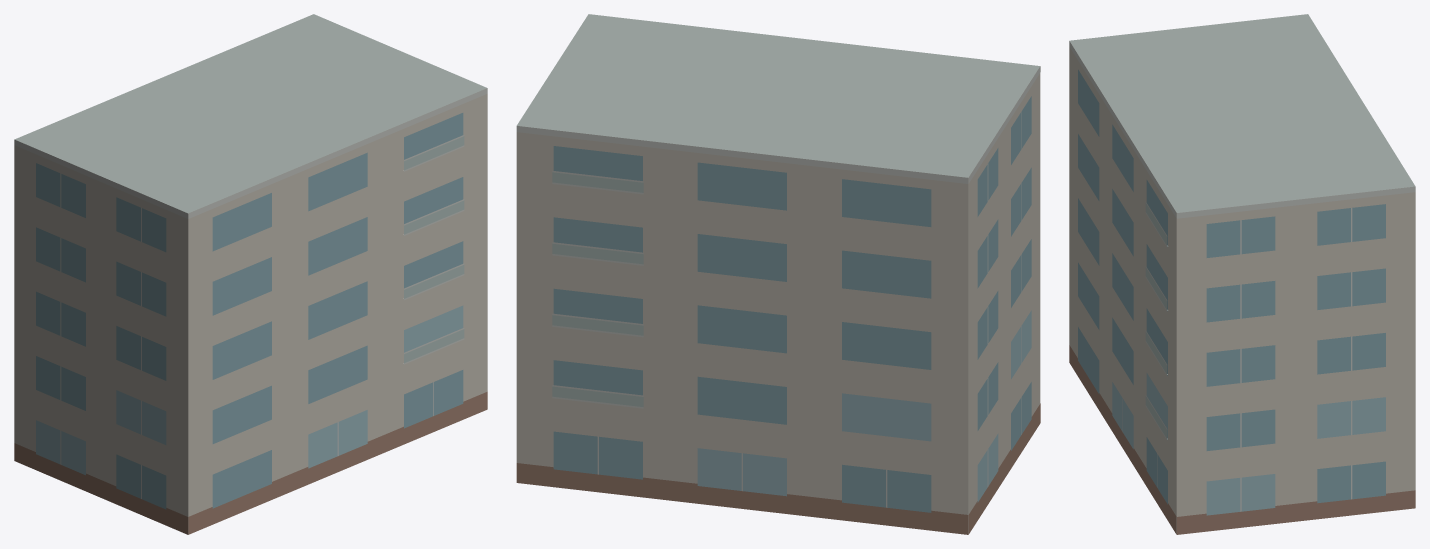
File: survey-upis-32720231.glb
The picture shows the model from 3 angles, left to right: view 1: azimuth 30°, elevation 25°; view 2: azimuth 150°, elevation 25°; view 3: azimuth 270°, elevation 25°; orthographic projection. The views are drawn at different scales.
Parts seen in each view (by area): view 1: survey-upis-32720231.tmp; view 2: survey-upis-32720231.tmp; view 3: survey-upis-32720231.tmp.
Part boxes in pixels (bbox=[...]): survey-upis-32720231.tmp: bbox=[14, 14, 487, 534]; survey-upis-32720231.tmp: bbox=[516, 14, 1040, 534]; survey-upis-32720231.tmp: bbox=[1069, 14, 1415, 534].
Size of the model in its own units: 18.46 by 13.9 by 13.57.
